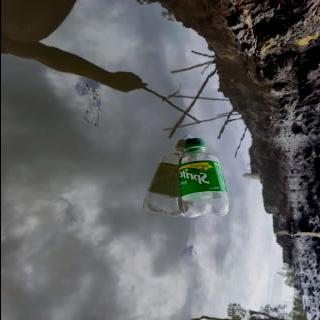bottle: (174, 137, 232, 220)
